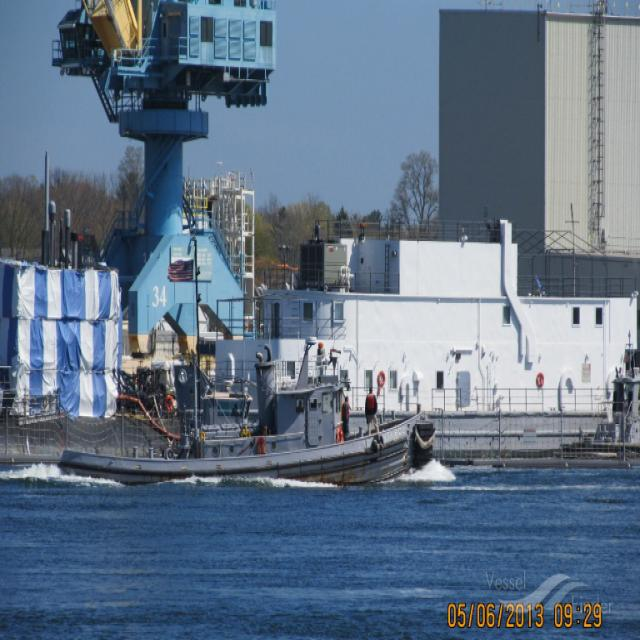tugboat: (62, 378, 422, 479)
